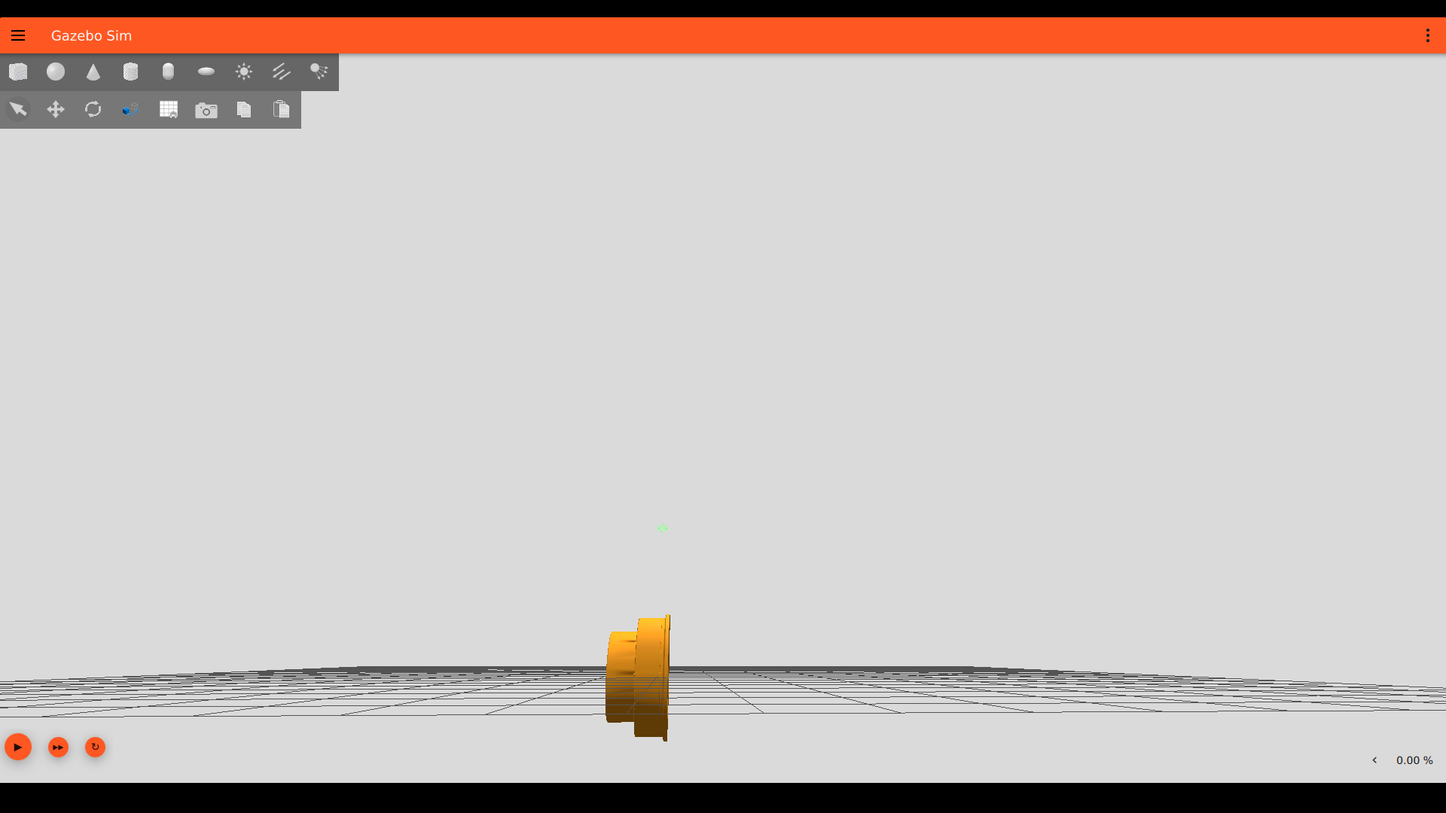valve: (596, 592, 689, 747)
